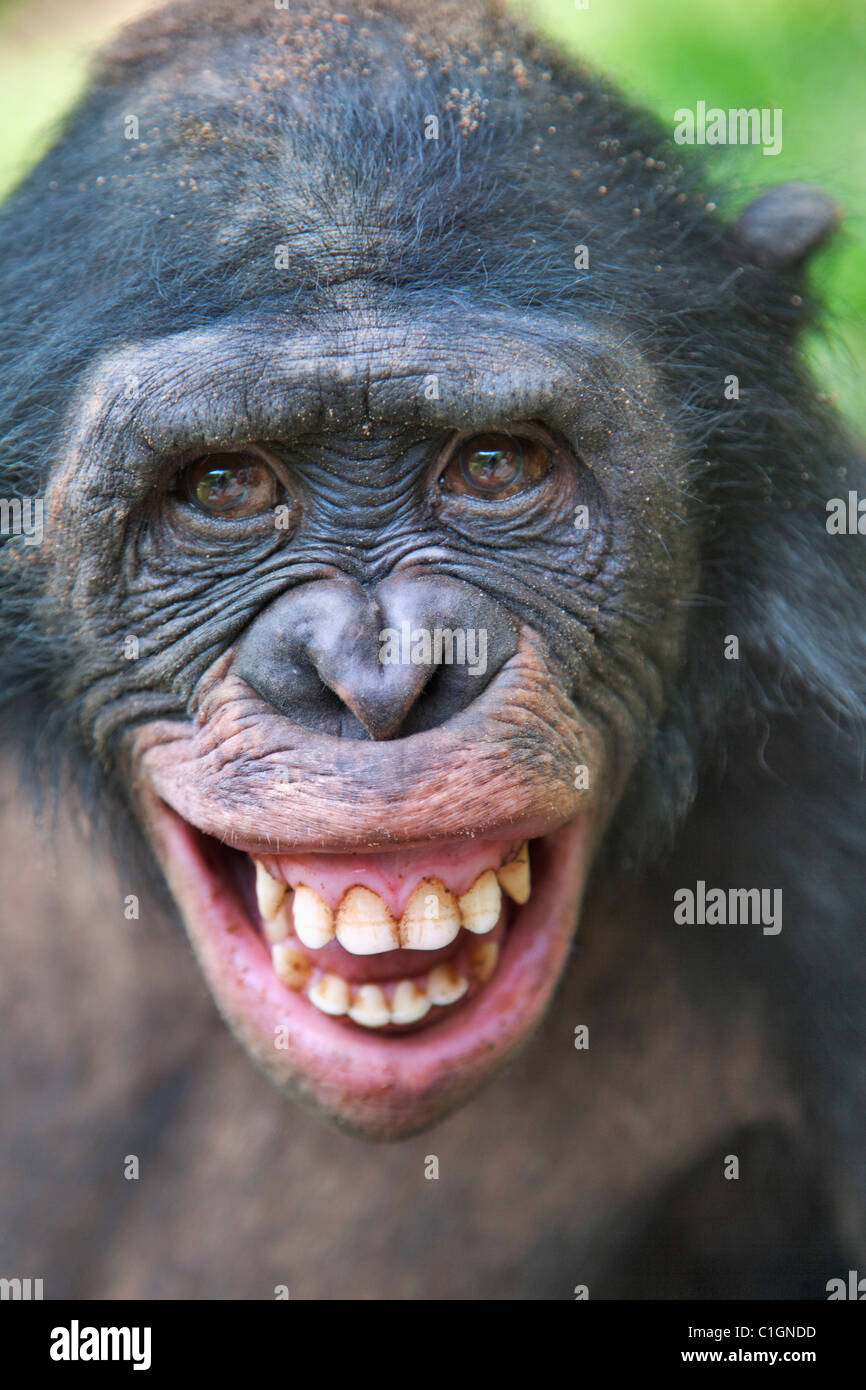Champanze: (55, 311, 690, 1155)
